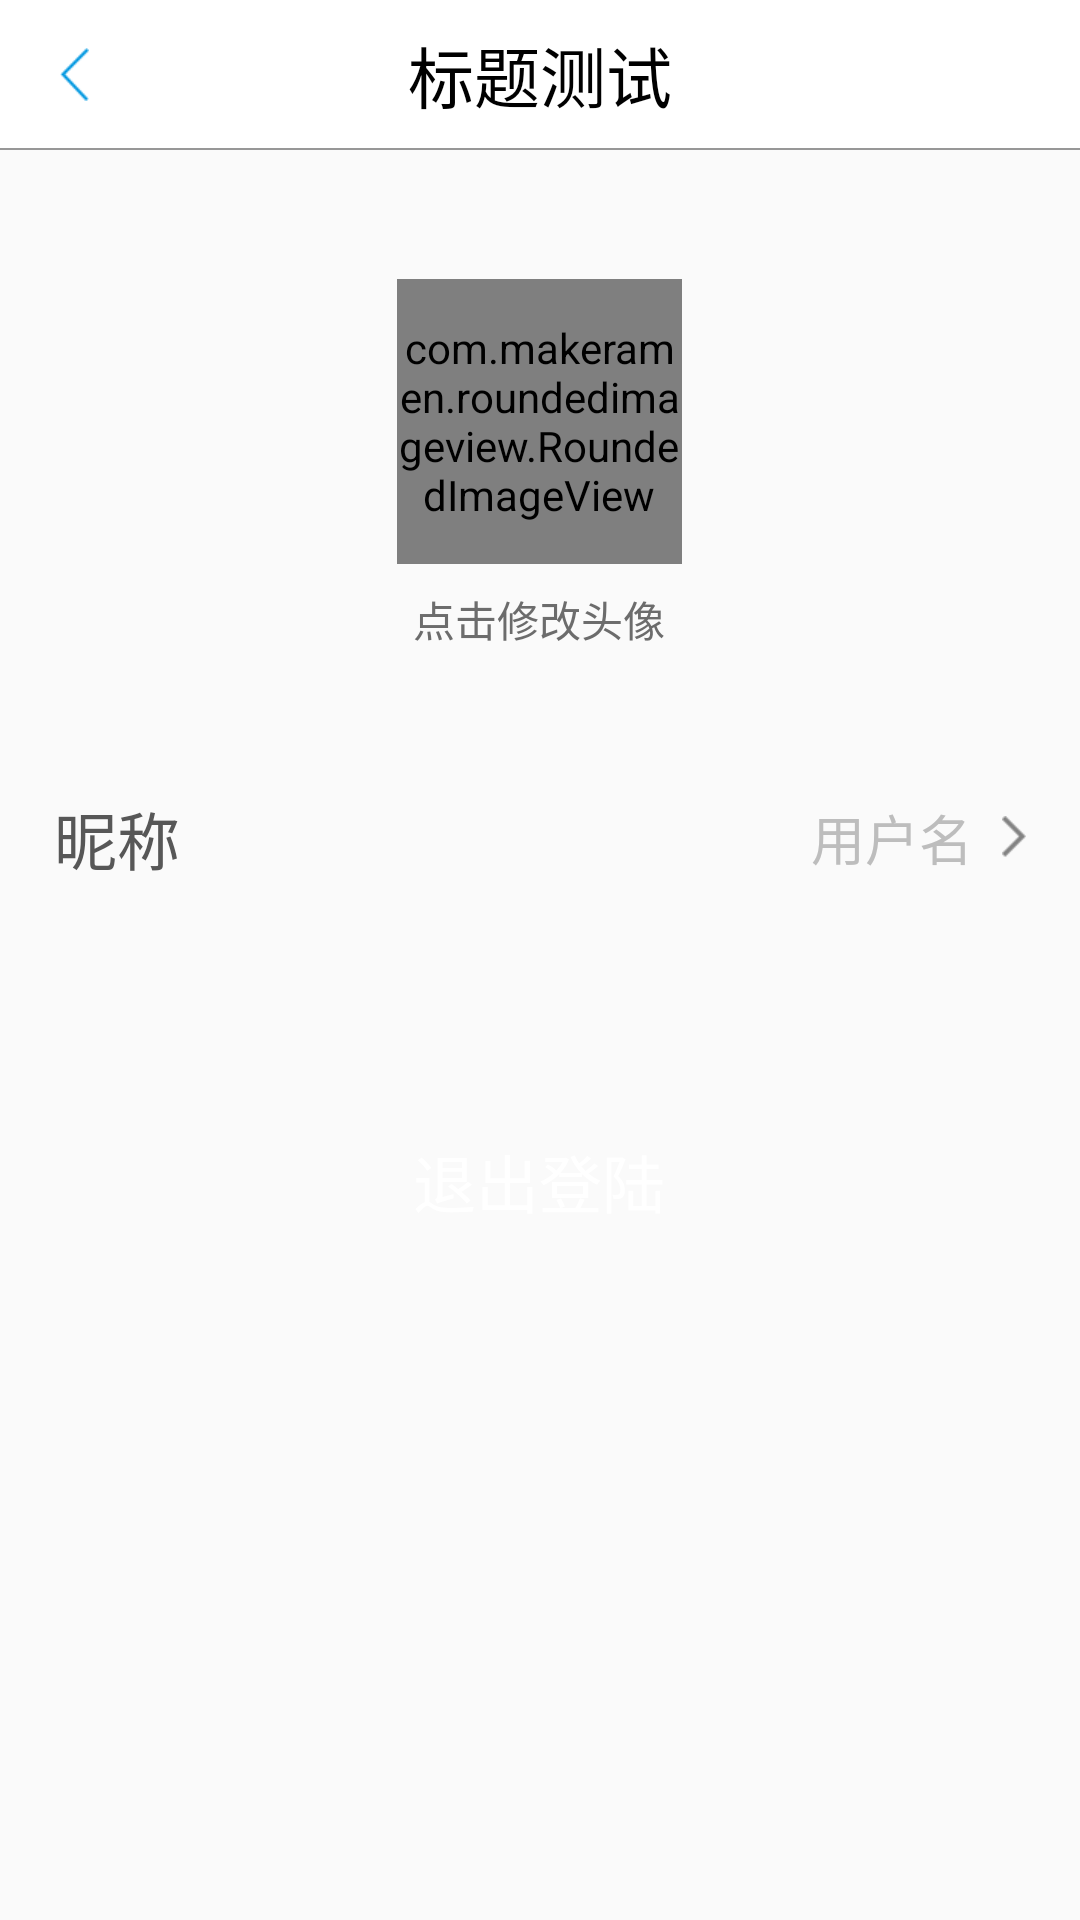

Icon bounding boxes for this 1080px×1920px phone screenshot, format bbox=[x1, y1, x2, y2]:
back: bbox=[60, 48, 89, 101]
